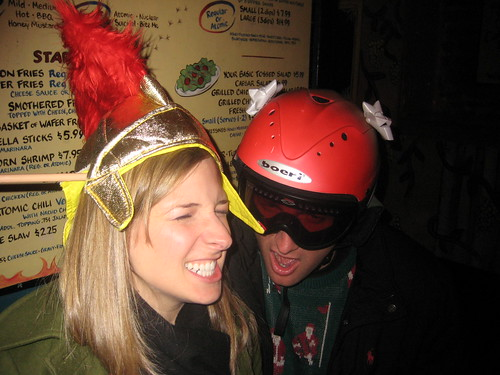helmet: (237, 92, 414, 193)
